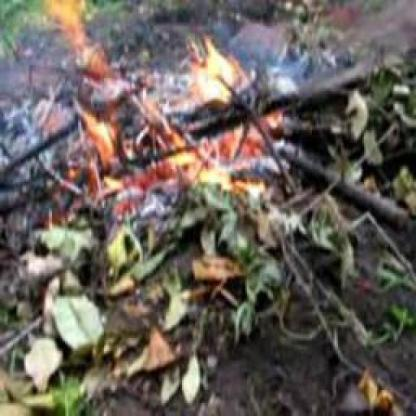fire: (50, 17, 282, 212)
